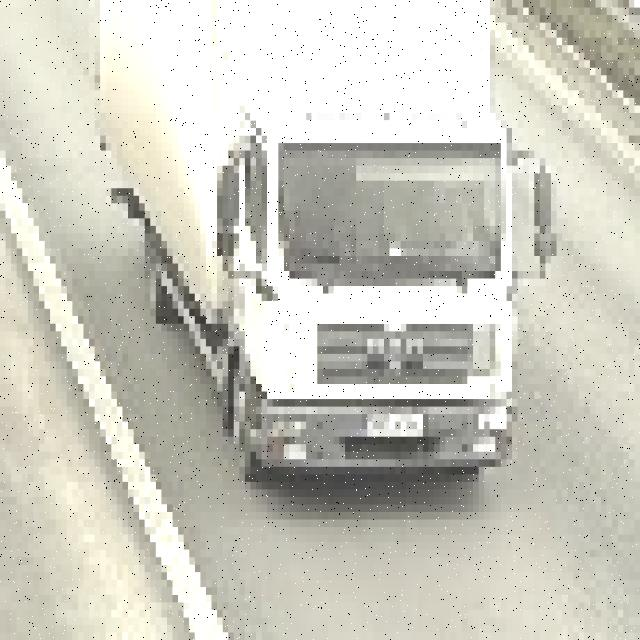truck: (106, 0, 557, 489)
